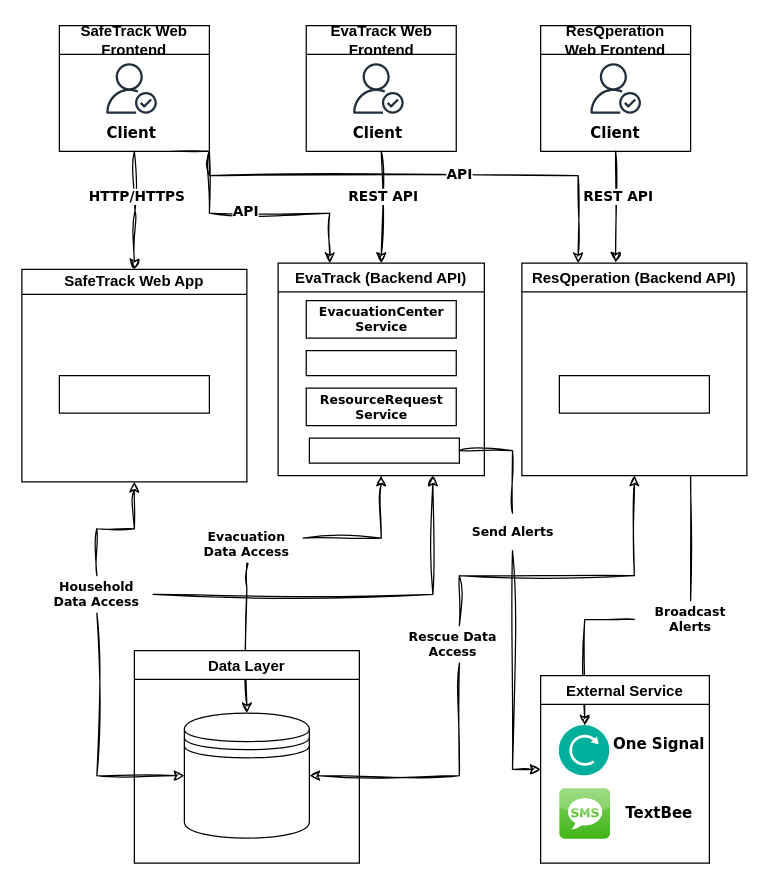
Some shapes in this 769 by 885 pixel diagram are drawn without their labels. The centre of each missing label's shape, as x and y in pixels:
"EvacuationService" belongs at (x=380, y=362).
"HouseholdService" belongs at (x=133, y=393).
"MySQL" belongs at (x=246, y=775).
"NotificationService" belongs at (x=383, y=450).
"ResourceService" belongs at (x=633, y=393).
